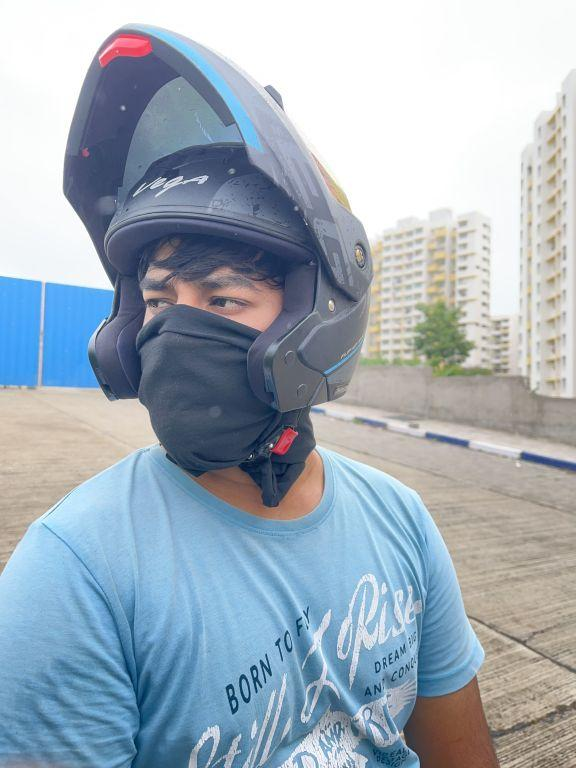helmet: (55, 7, 377, 501)
